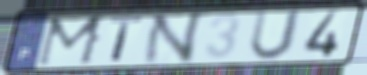3: (203, 12, 245, 61)
4: (300, 9, 342, 60)
M: (34, 13, 109, 69)
N: (139, 9, 209, 67)
T: (108, 15, 146, 63)
U: (245, 7, 306, 63)
